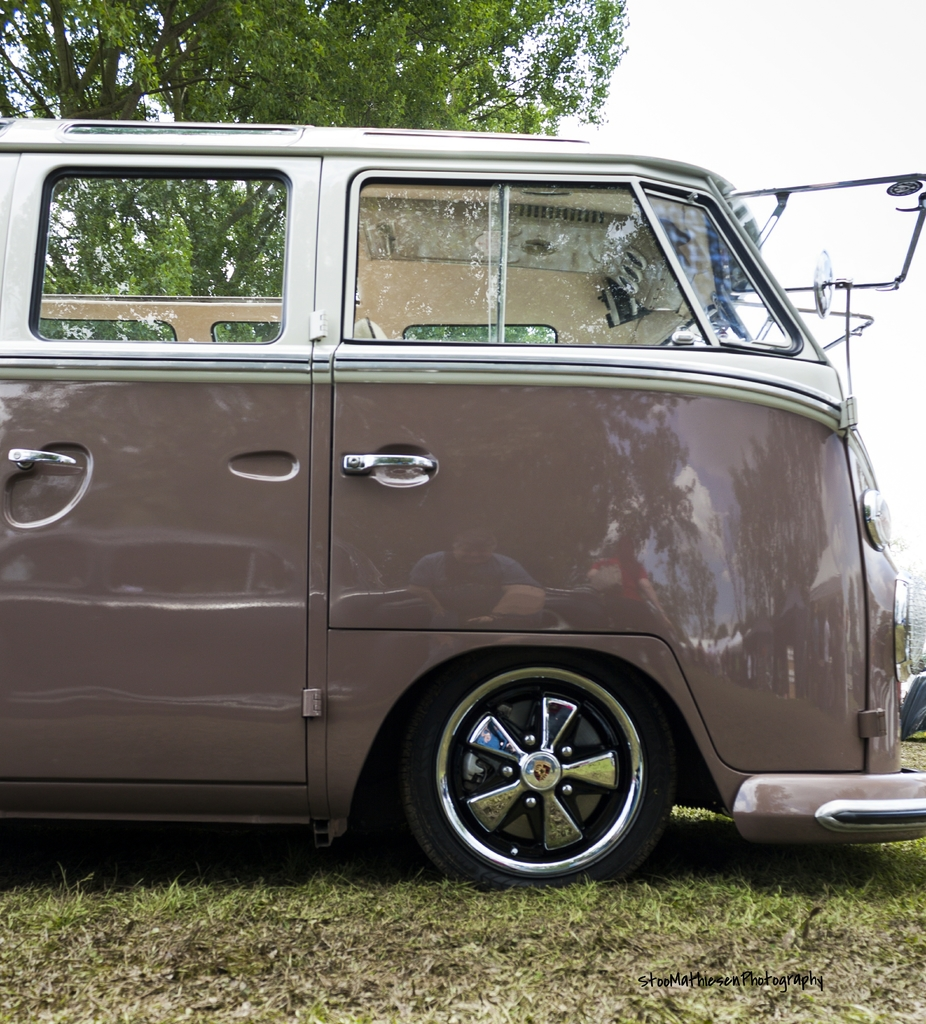person: (404, 524, 548, 625)
